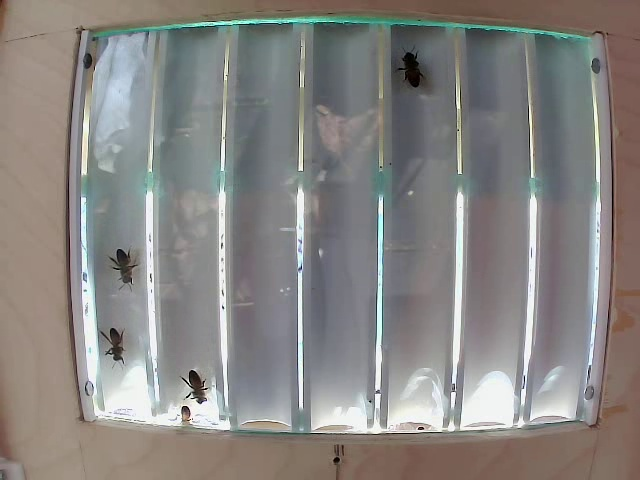bee: (177, 363, 231, 406), (89, 325, 132, 376), (100, 234, 144, 282), (384, 48, 429, 94)
